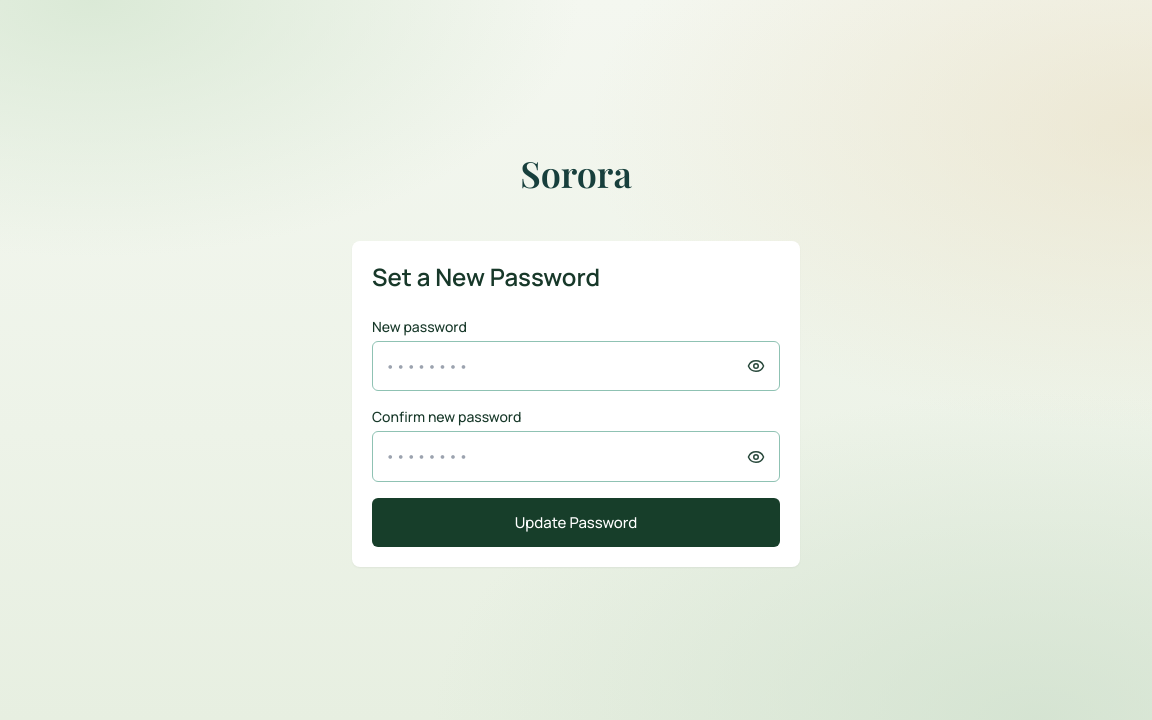
Scenario: password fields have accessible labels and a rejected save permits retry
Step 1. Type "sample-password" into the password field labelled "New password" → (576, 366), box [372,341,780,391]
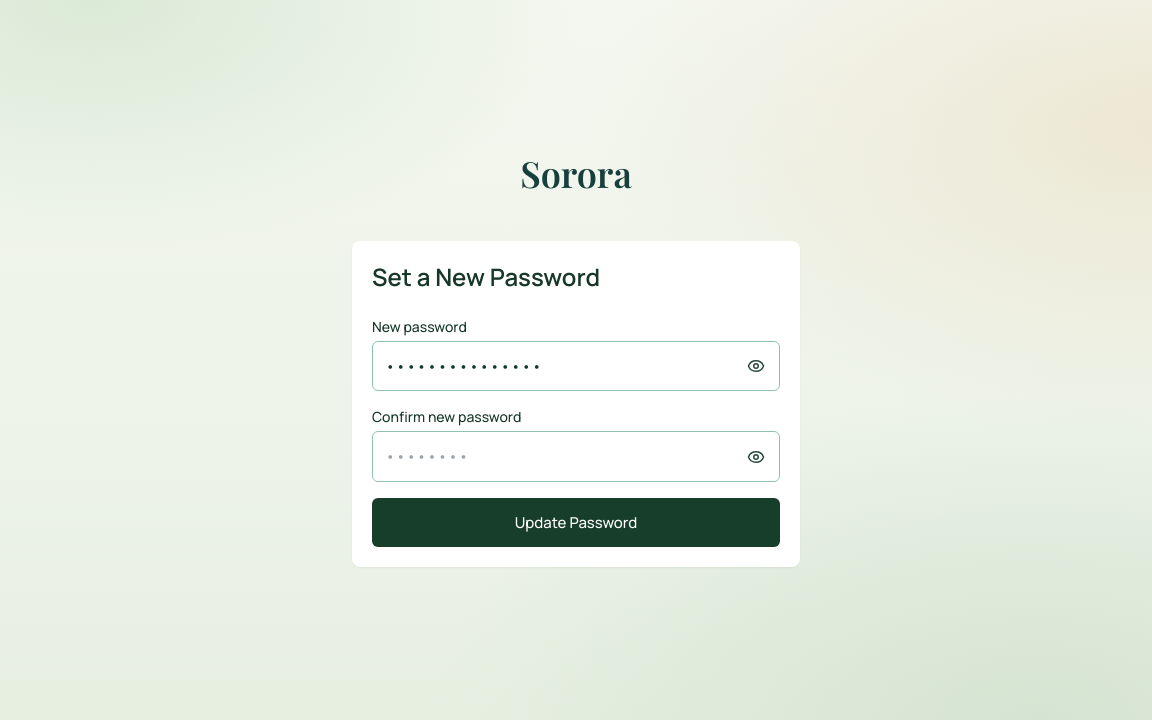
Step 2. Type "sample-password" into the password field labelled "Confirm new password" → (576, 457), box [372,431,780,482]
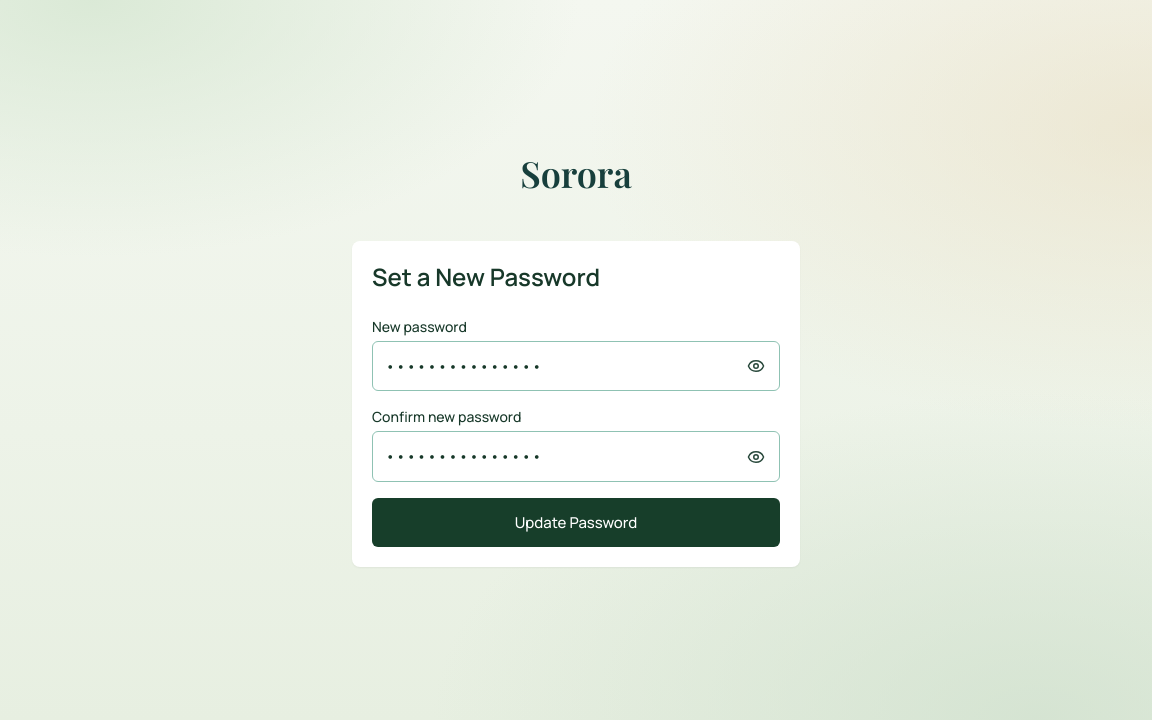
Step 3. Click the button "Update Password" → (576, 523), box [372,498,780,548]
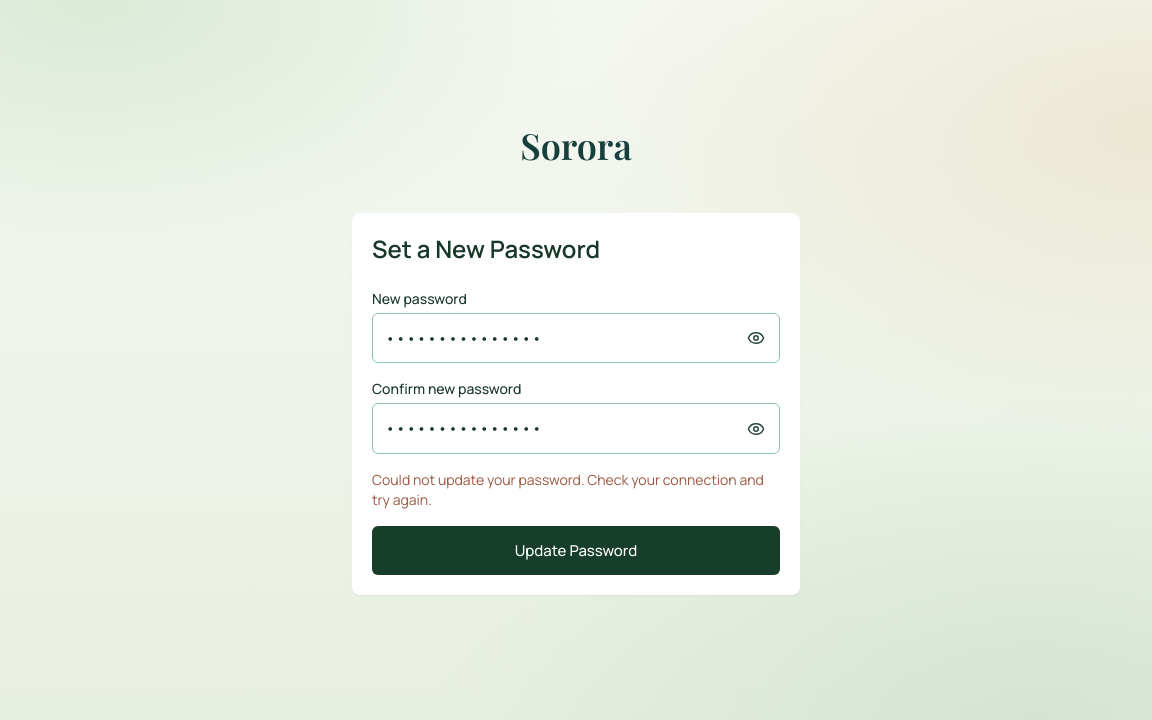
Result: the message shows "Could not update" at [372,470,764,509]
Step 4. Click the button "Update Password" → (576, 551), box [372,526,780,576]
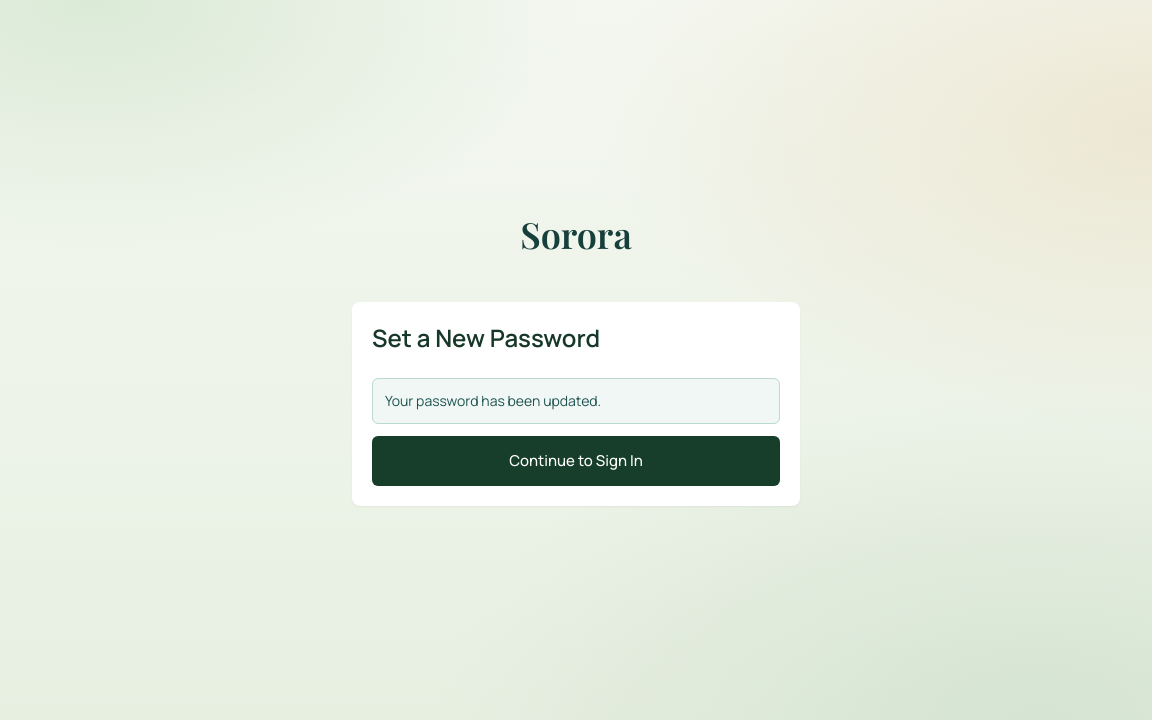
Result: the message shows "Your password has been updated" at [385,391,601,410]
